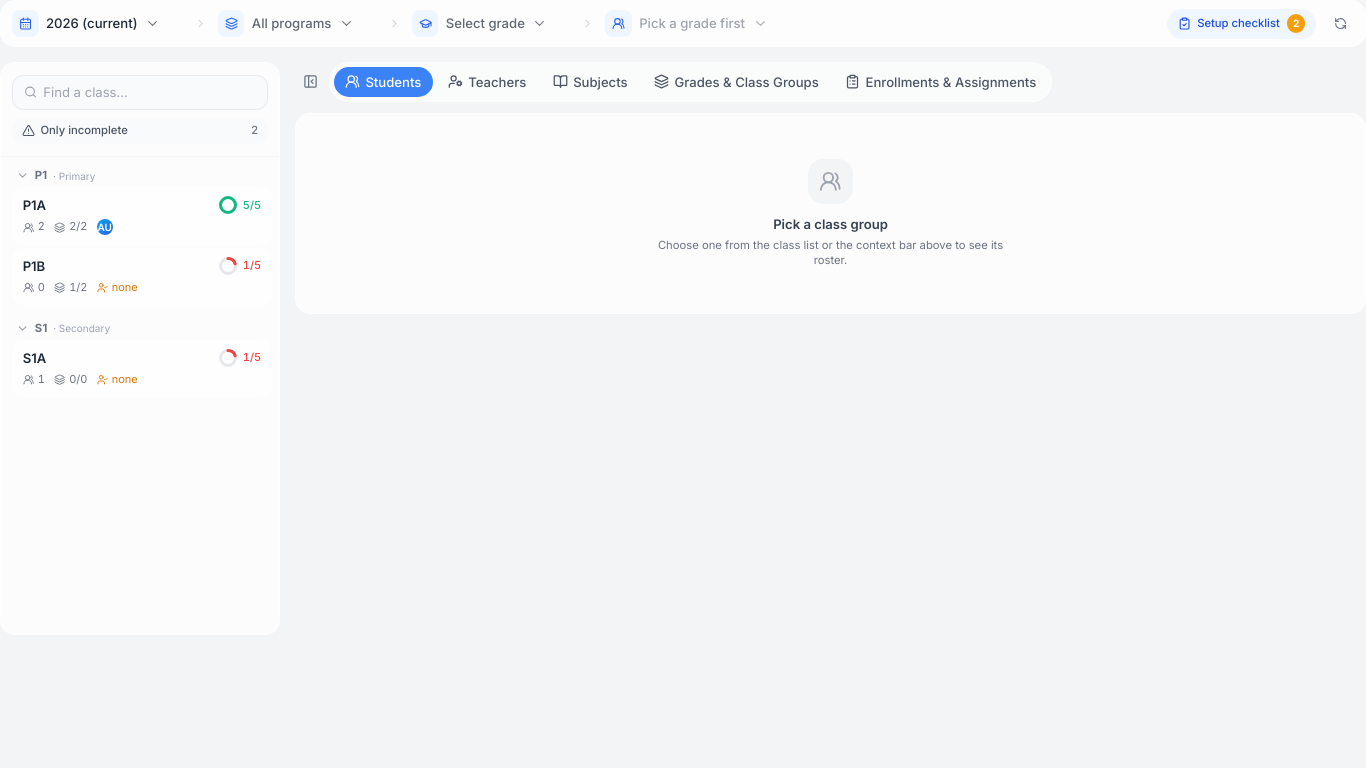
Scenario: Enrollment matrix keyboard grid › toggles a focused cell with the space bar
The image size is (1366, 768).
Click the text "P1A" at x=34, y=205, box x1=23 y1=196 x2=46 y2=215
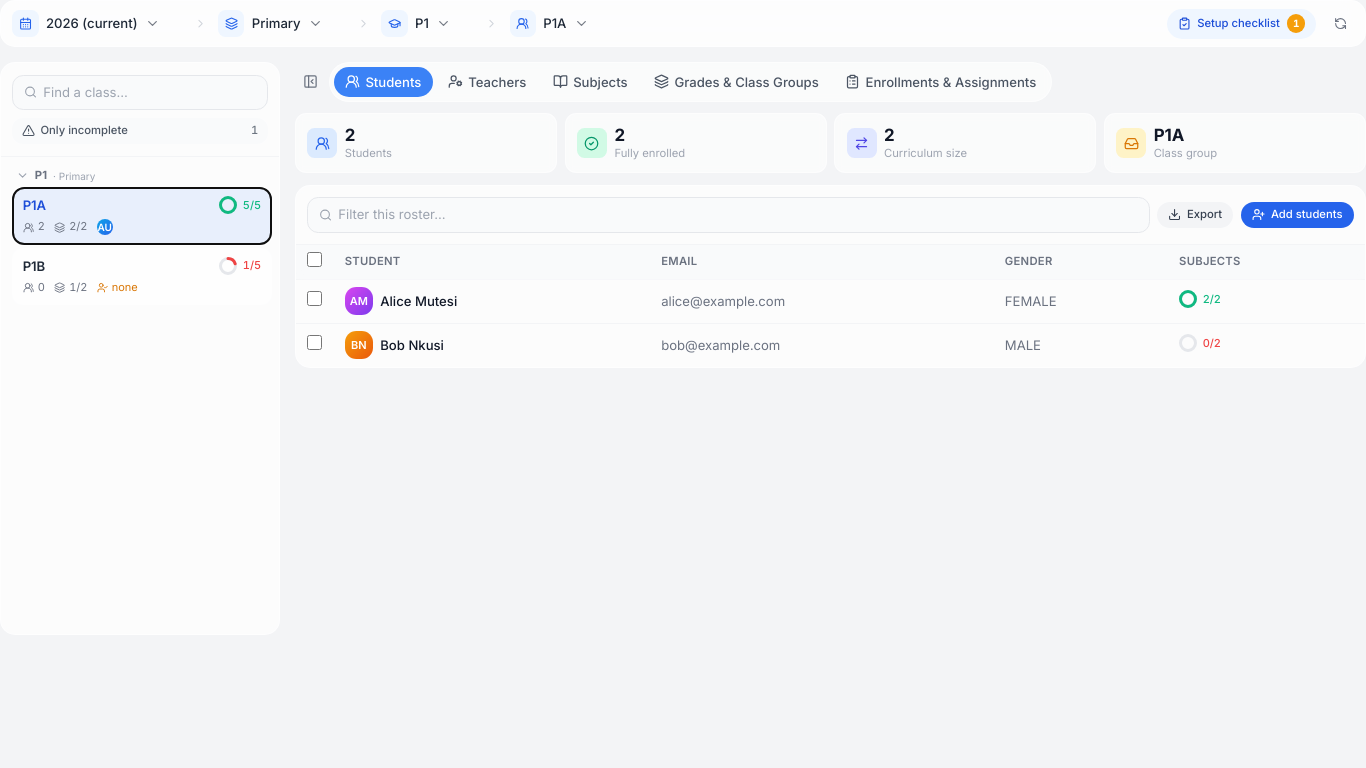
Click the tab "Enrollments & Assignments" at x=941, y=82, box x1=834 y1=67 x2=1048 y2=97
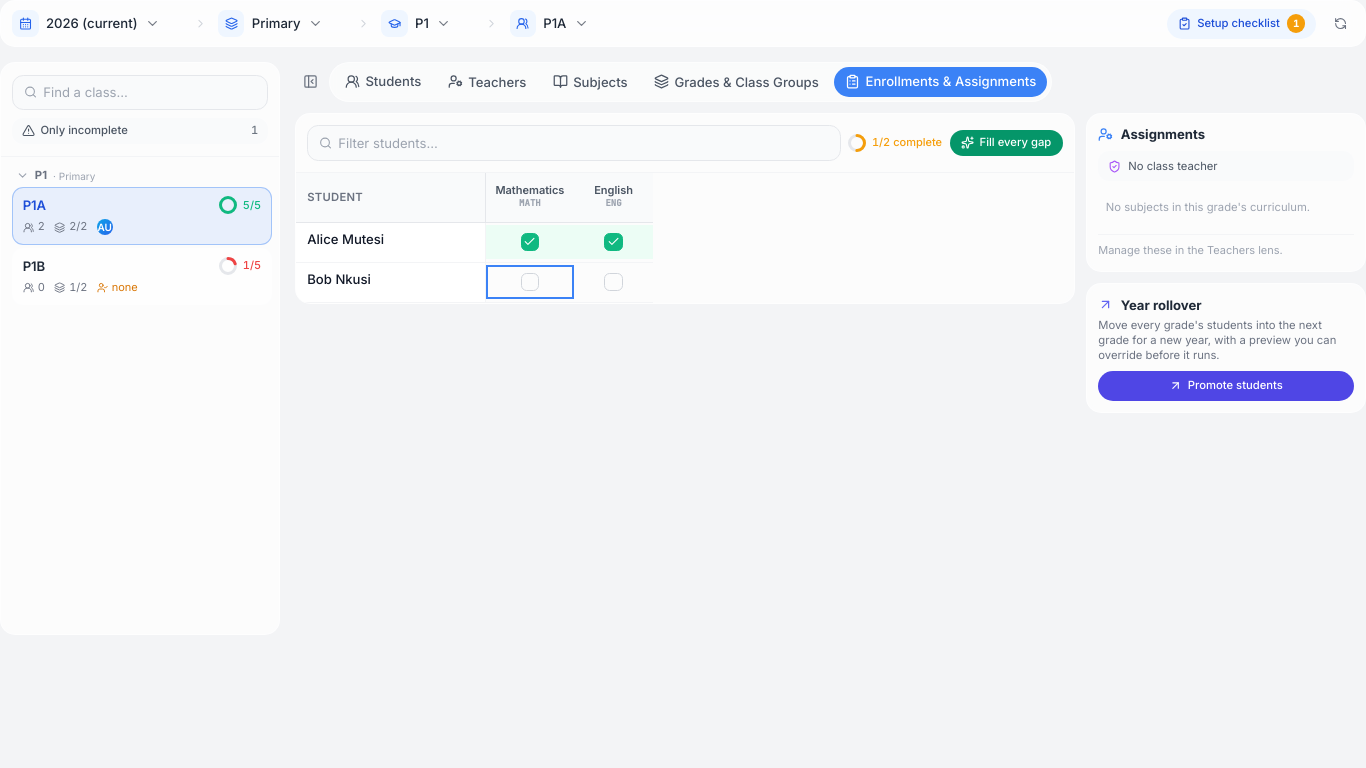
Expected: the checkbox named "Alice Mutesi — Mathematics" is shown, x1=486 y1=225 x2=574 y2=259
Type keys " "
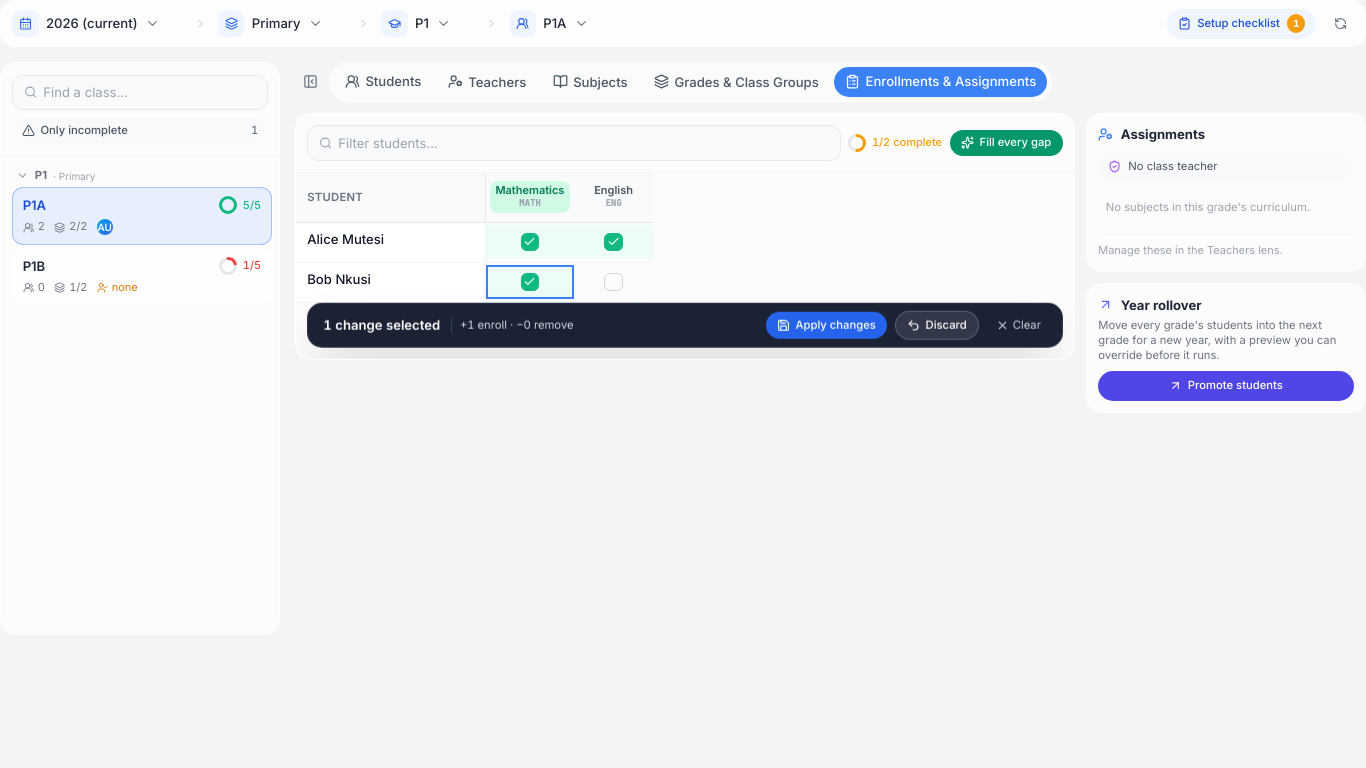
Expected: the text "1 change selected" is shown, x1=320 y1=316 x2=444 y2=335
